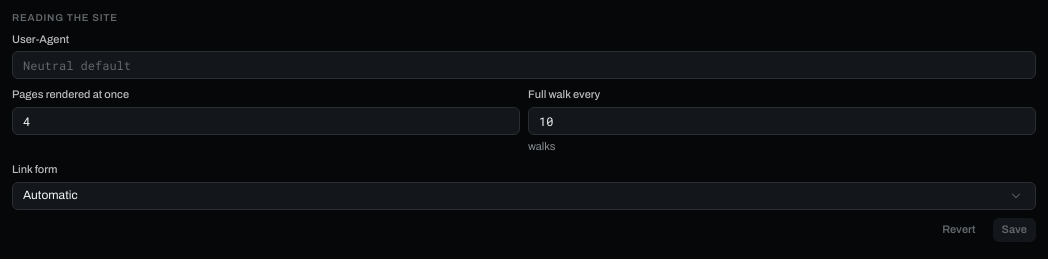
Scenario: the site's settings form › puts back what is stored
This screenshot has width=1048, height=259.
Step 1. Replace the text in the field labelled "Full walk every" with "3" → (782, 121), box x1=528 y1=107 x2=1036 y2=135
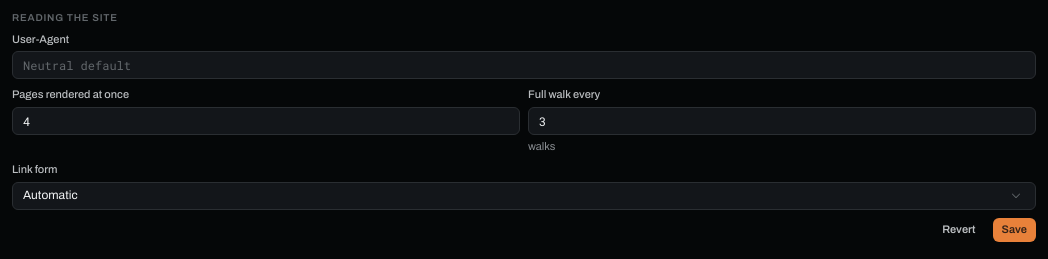
Step 2. Click the button "Revert" → (959, 230), box x1=933 y1=218 x2=985 y2=242
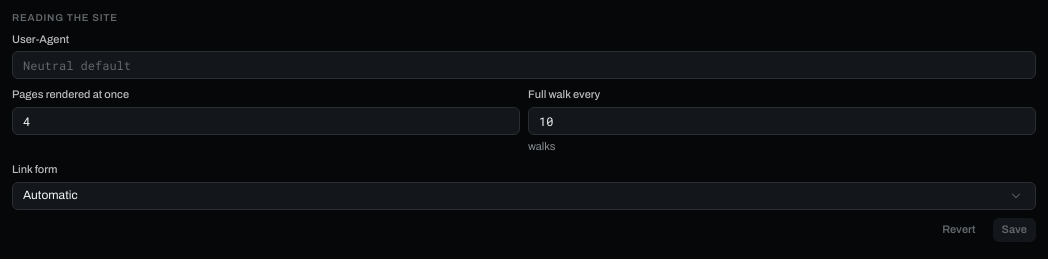
Check: the field labelled "Full walk every" holds "10", box x1=528 y1=107 x2=1036 y2=135
Check: the button "Save" is disabled, box x1=992 y1=218 x2=1036 y2=242
